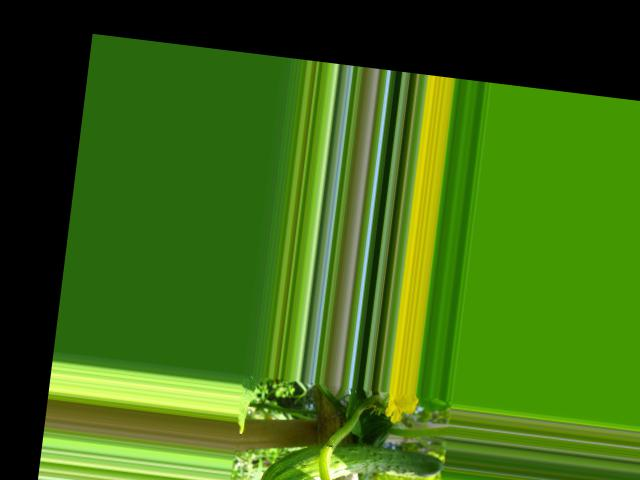cucumber: (256, 432, 445, 480)
